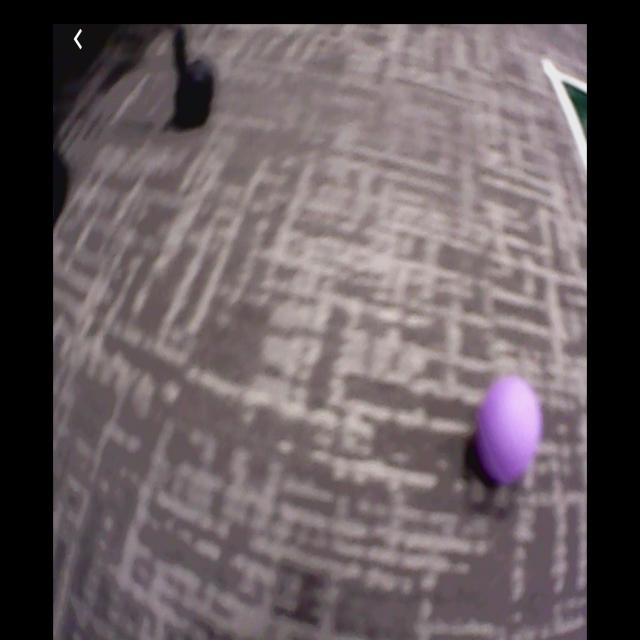ball: (473, 373, 544, 487)
